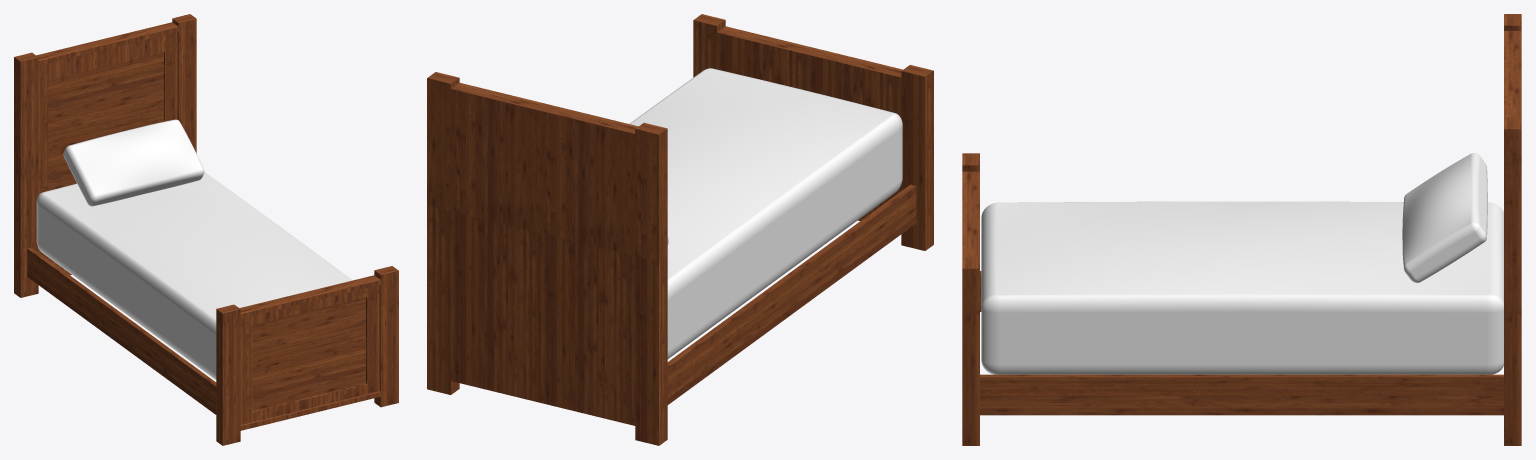
The model's file is Bed 3.fbx.
3 views of the same model, side by side, from view 1: azimuth 30°, elevation 25°; view 2: azimuth 150°, elevation 25°; view 3: azimuth 270°, elevation 25° (orthographic). The views are drawn at different scales.
Parts seen in each view (by area): view 1: Fillet, Solid_Addition_2, Solid_Addition, Fillet_2, Extrude_2; view 2: Solid_Addition, Fillet, Solid_Addition_2, Extrude_2; view 3: Fillet, Extrude, Fillet_2, Solid_Addition, Solid_Addition_2.
Boxes of the visible parts, x1=… form: Fillet: x1=36, y1=172, x2=352, y2=379; Solid_Addition_2: x1=216, y1=266, x2=398, y2=445; Solid_Addition: x1=14, y1=14, x2=196, y2=297; Fillet_2: x1=63, y1=119, x2=204, y2=206; Extrude_2: x1=27, y1=247, x2=216, y2=414; Solid_Addition: x1=427, y1=72, x2=667, y2=445; Fillet: x1=629, y1=68, x2=902, y2=358; Solid_Addition_2: x1=693, y1=14, x2=933, y2=250; Extrude_2: x1=667, y1=184, x2=916, y2=404; Fillet: x1=981, y1=201, x2=1503, y2=374; Extrude: x1=980, y1=374, x2=1503, y2=415; Fillet_2: x1=1402, y1=153, x2=1487, y2=282; Solid_Addition: x1=1504, y1=14, x2=1521, y2=445; Solid_Addition_2: x1=962, y1=153, x2=979, y2=445.
Size of the model in its own units: 991 by 1270 by 2032.
Materials: 2 (1 with a texture image).
